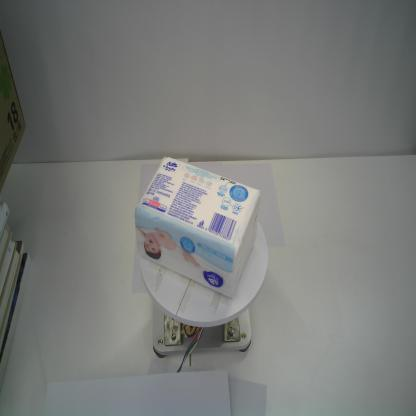Tissue: (133, 155, 262, 300)
